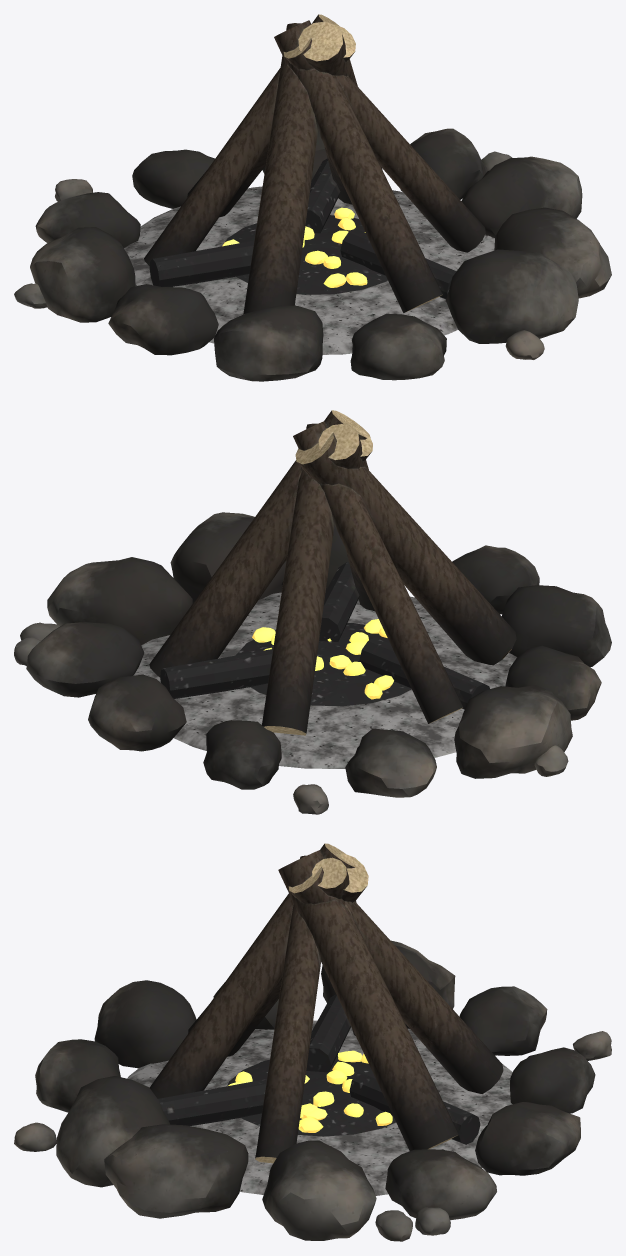
File: fogueira.glb
The picture shows the model from 3 angles, top to bottom: view 1: azimuth 30°, elevation 25°; view 2: azimuth 150°, elevation 25°; view 3: azimuth 270°, elevation 25°; orthographic projection. The views are drawn at different scales.
Visible parts, largest first — view 1: pedras, lenha, cinzas, brasa; view 2: pedras, lenha, cinzas, brasa; view 3: pedras, lenha, cinzas, brasa.
Part boxes in pixels (bbox=[...]): pedras: bbox=[14, 128, 611, 381]; lenha: bbox=[144, 14, 485, 314]; cinzas: bbox=[124, 186, 494, 354]; brasa: bbox=[222, 207, 367, 287]; pedras: bbox=[14, 512, 611, 814]; lenha: bbox=[149, 410, 516, 735]; cinzas: bbox=[133, 592, 516, 768]; brasa: bbox=[252, 619, 393, 699]; pedras: bbox=[14, 940, 611, 1241]; lenha: bbox=[149, 843, 503, 1163]; cinzas: bbox=[127, 1020, 512, 1195]; brasa: bbox=[228, 1050, 392, 1132].
Size of the model in its own units: 0.9518 by 0.4398 by 0.9031.
3 materials, 2 textured.
